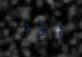one: (18, 19, 31, 36), (47, 20, 60, 37)
three: (33, 19, 46, 37)
